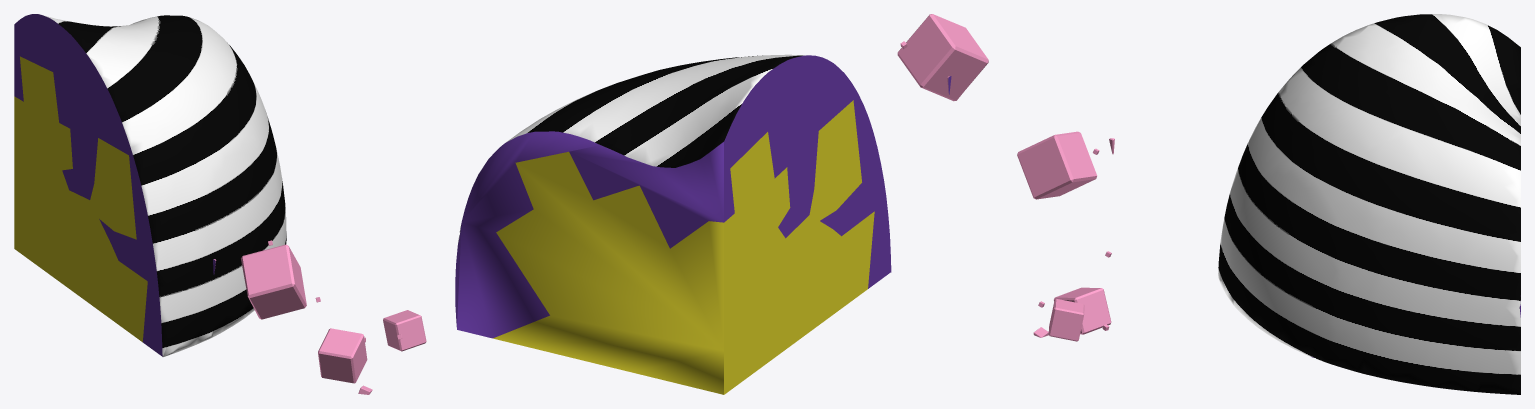
Rendered from SM_Apple_Behind_LT.fbx.
3 views of the same model, side by side, from view 1: azimuth 30°, elevation 25°; view 2: azimuth 150°, elevation 25°; view 3: azimuth 270°, elevation 25° (orthographic). The views are drawn at different scales.
Parts seen in each view (by area): view 1: 立方体.0004; view 2: 立方体.0004; view 3: 立方体.0004.
Boxes of the visible parts, bbox=[...] form: 立方体.0004: bbox=[14, 14, 426, 394]; 立方体.0004: bbox=[455, 14, 988, 394]; 立方体.0004: bbox=[1017, 14, 1520, 394].
Bounding box in the file's own units: 97.57 × 101 × 175.
